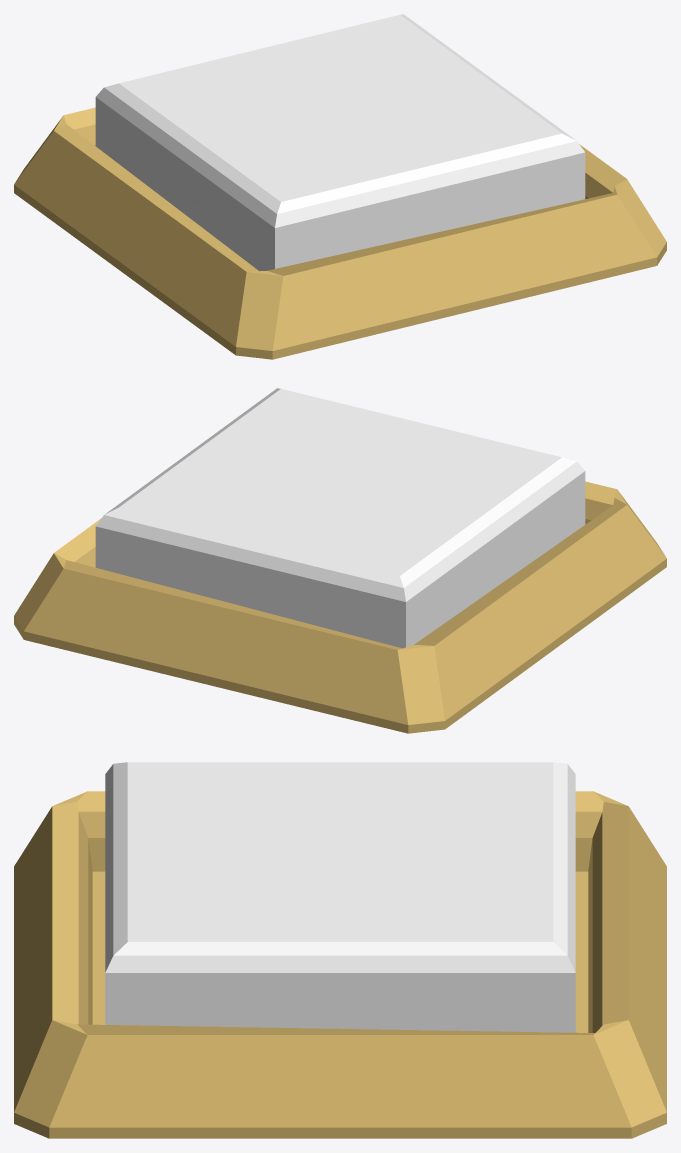
File: PressurePlate.fbx
3 renders of one model, top to bottom at view 1: azimuth 30°, elevation 25°; view 2: azimuth 150°, elevation 25°; view 3: azimuth 270°, elevation 25°, orthographic. The views are drawn at different scales.
Parts seen in each view (by area): view 1: Cube; view 2: Cube; view 3: Cube.
Part boxes in pixels (left/top/right/bottom): Cube: left=14, top=14, right=666, bottom=359; Cube: left=14, top=388, right=666, bottom=733; Cube: left=14, top=762, right=666, bottom=1138.
Bounding box in the file's own units: 227 × 56.9 × 227.
